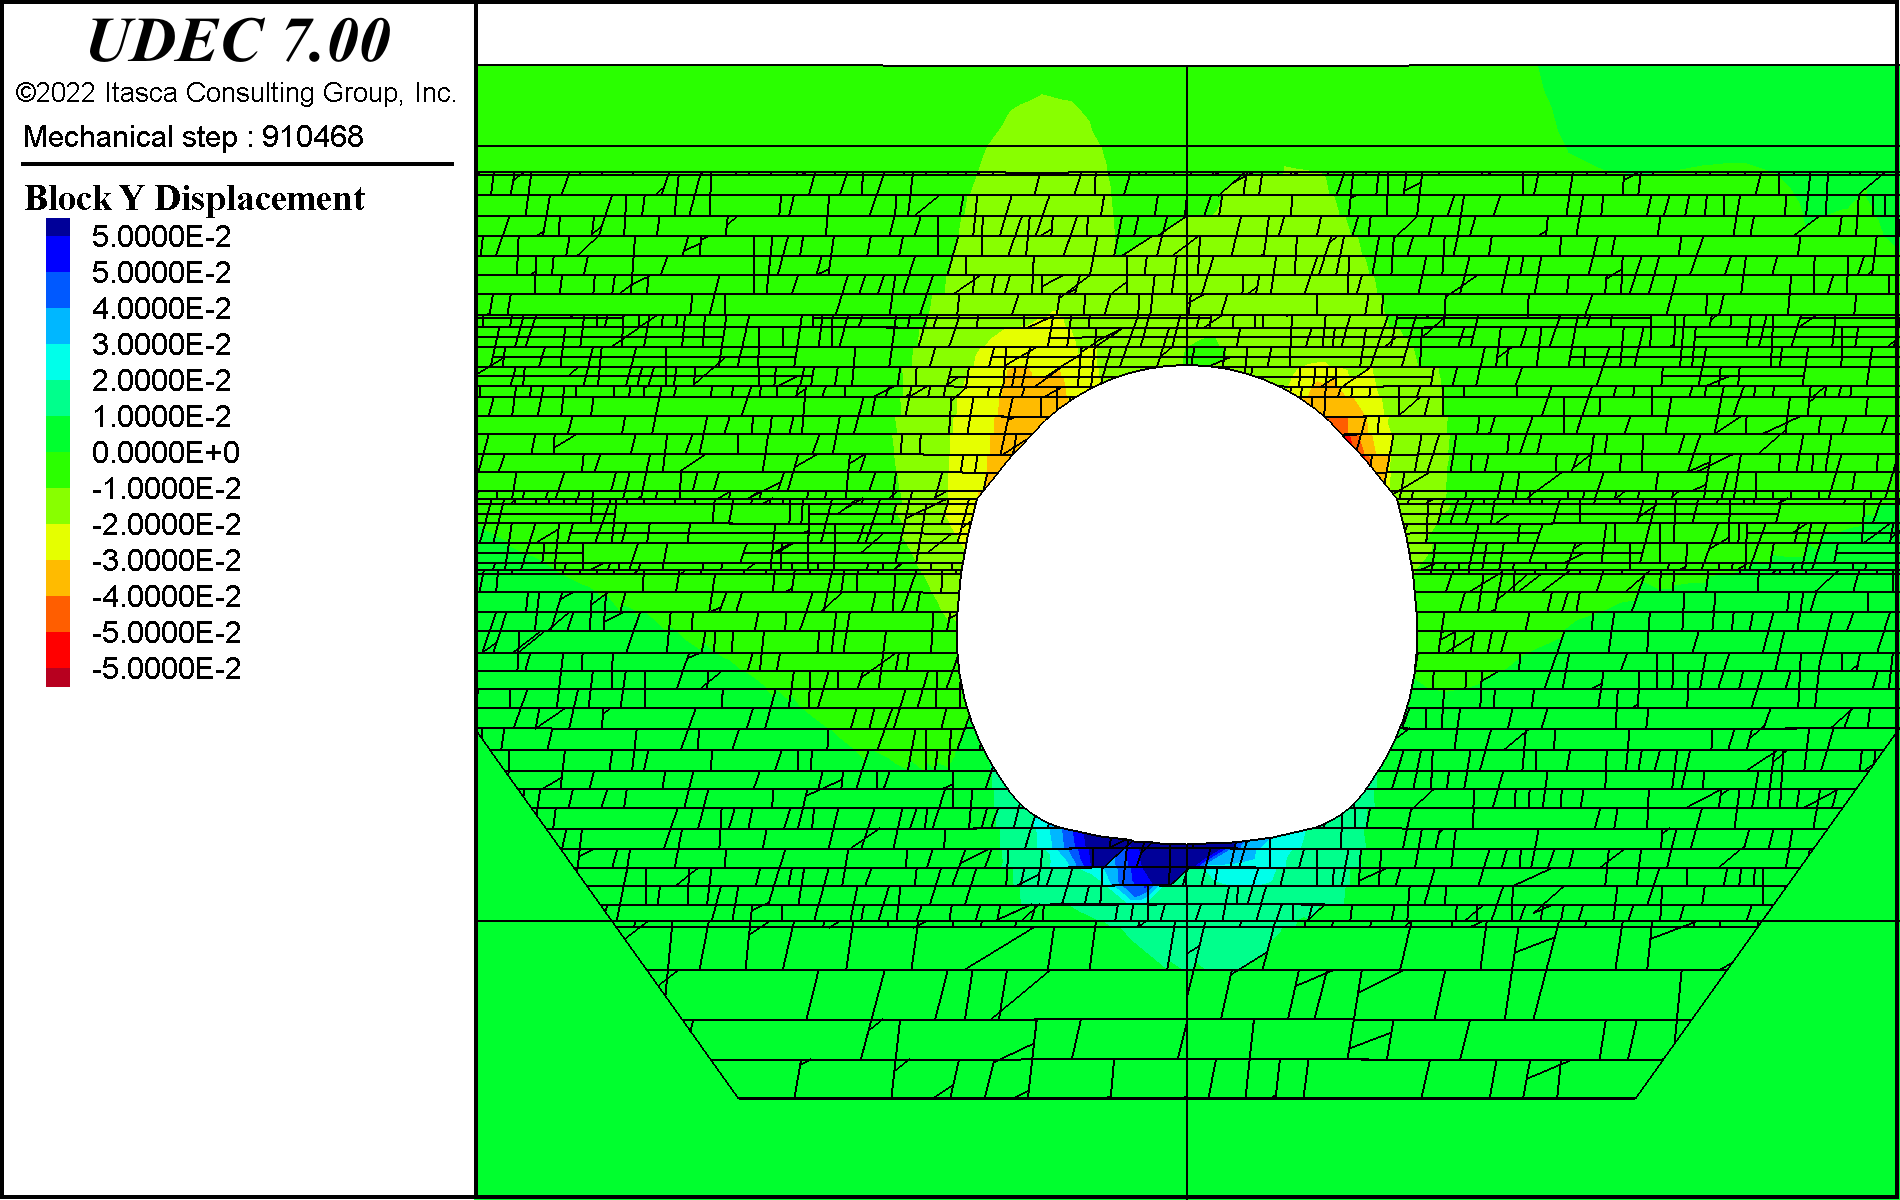crown: (1151, 330, 1228, 358)
label: (8, 6, 474, 1190)
tunnel-opening: (958, 361, 1418, 843)
